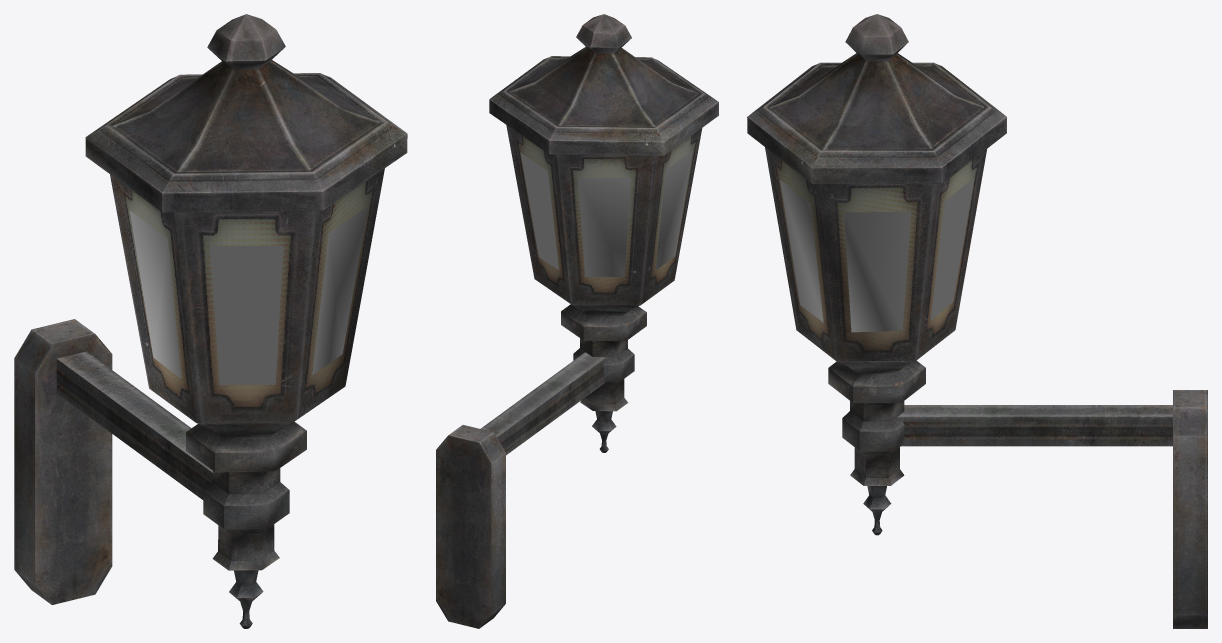
Rendered from SM_Light_02.fbx.
3 views of the same model, side by side, from view 1: azimuth 30°, elevation 25°; view 2: azimuth 150°, elevation 25°; view 3: azimuth 270°, elevation 25° (orthographic). The views are drawn at different scales.
Visible parts, largest first — view 1: SM_Light_02; view 2: SM_Light_02; view 3: SM_Light_02.
Boxes of the visible parts, box(x1,y1,x2,y2) form: SM_Light_02: box(14, 14, 407, 628); SM_Light_02: box(436, 14, 718, 628); SM_Light_02: box(747, 14, 1207, 628).
Size of the model in its own units: 37.36 by 104 by 71.68.
